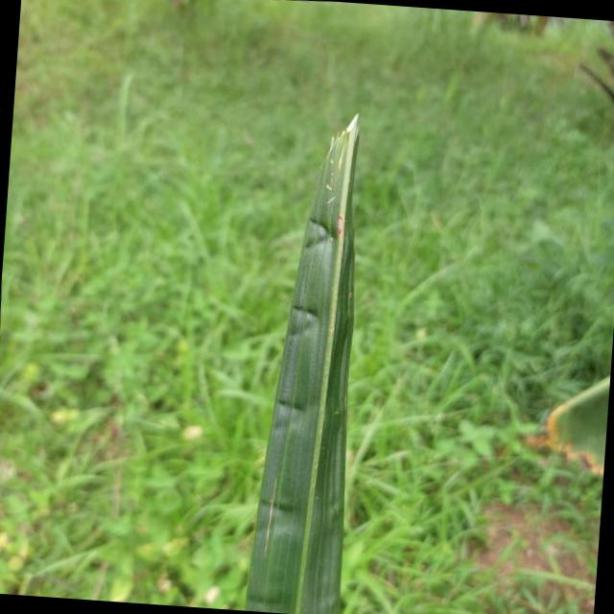Boron: (245, 103, 360, 614)
